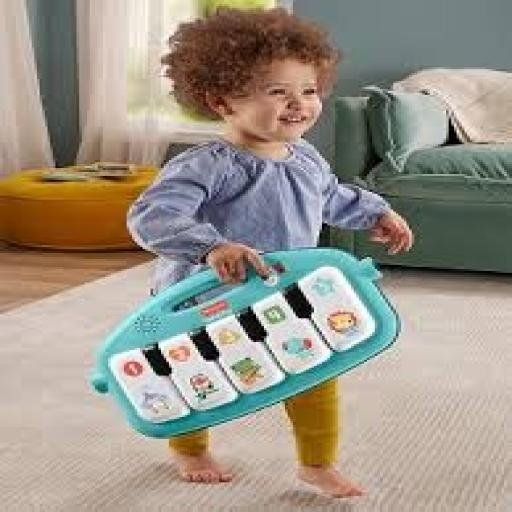baby: (127, 8, 414, 292)
